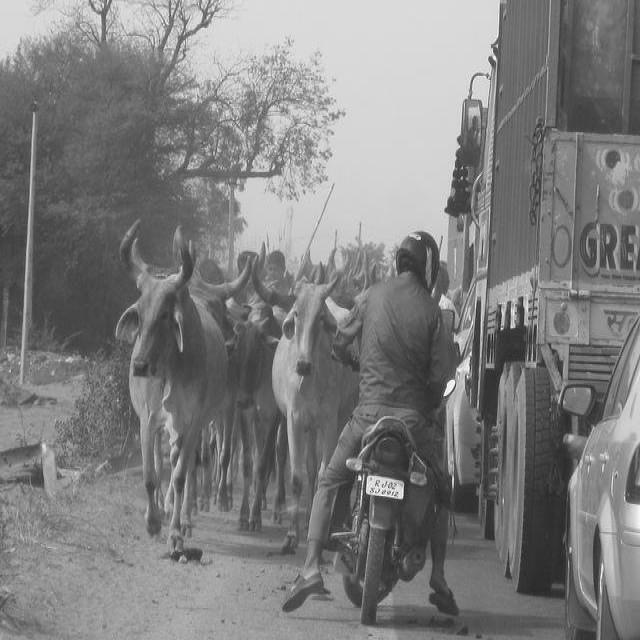vehicle: (454, 0, 639, 598), (558, 313, 640, 639), (326, 410, 434, 628), (446, 323, 481, 511)
